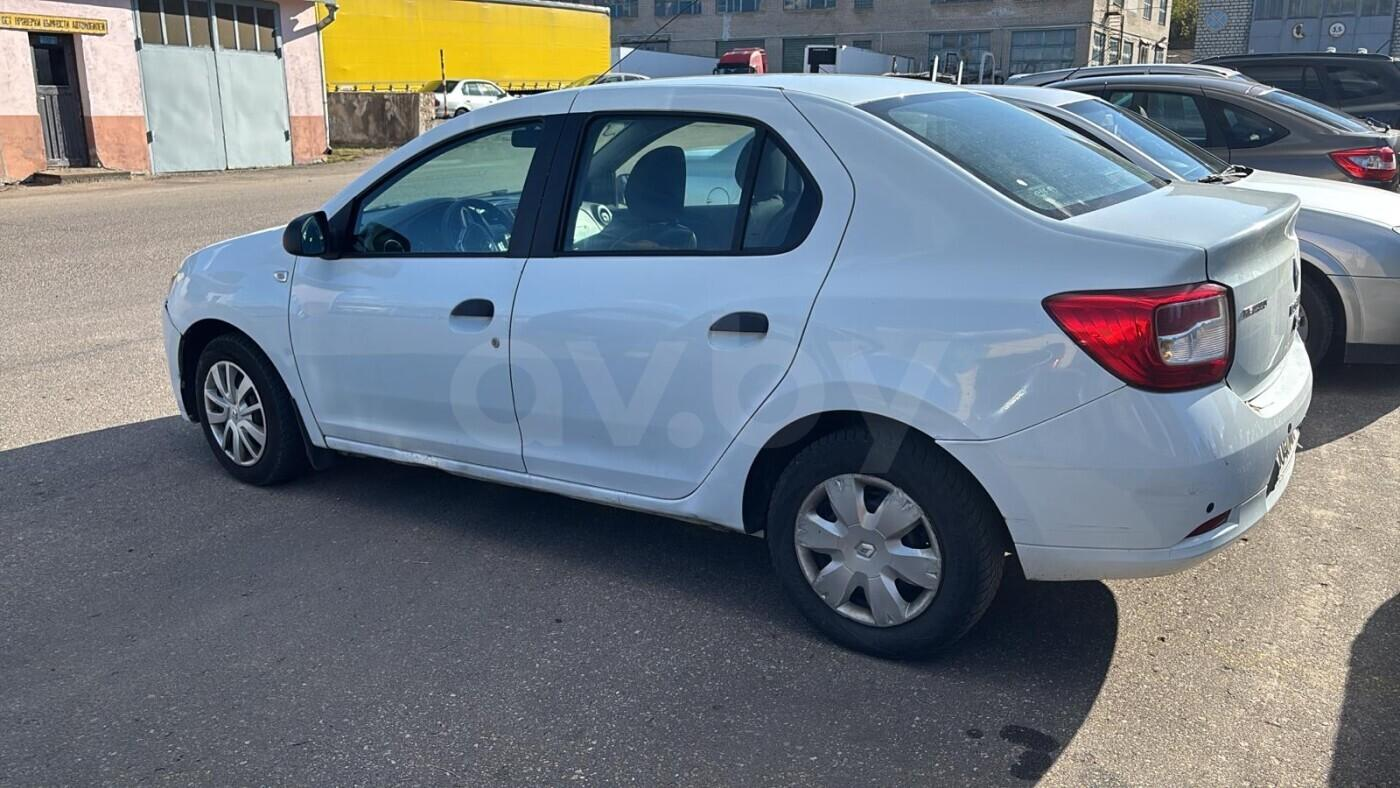Logan_2018: (150, 72, 1330, 665)
